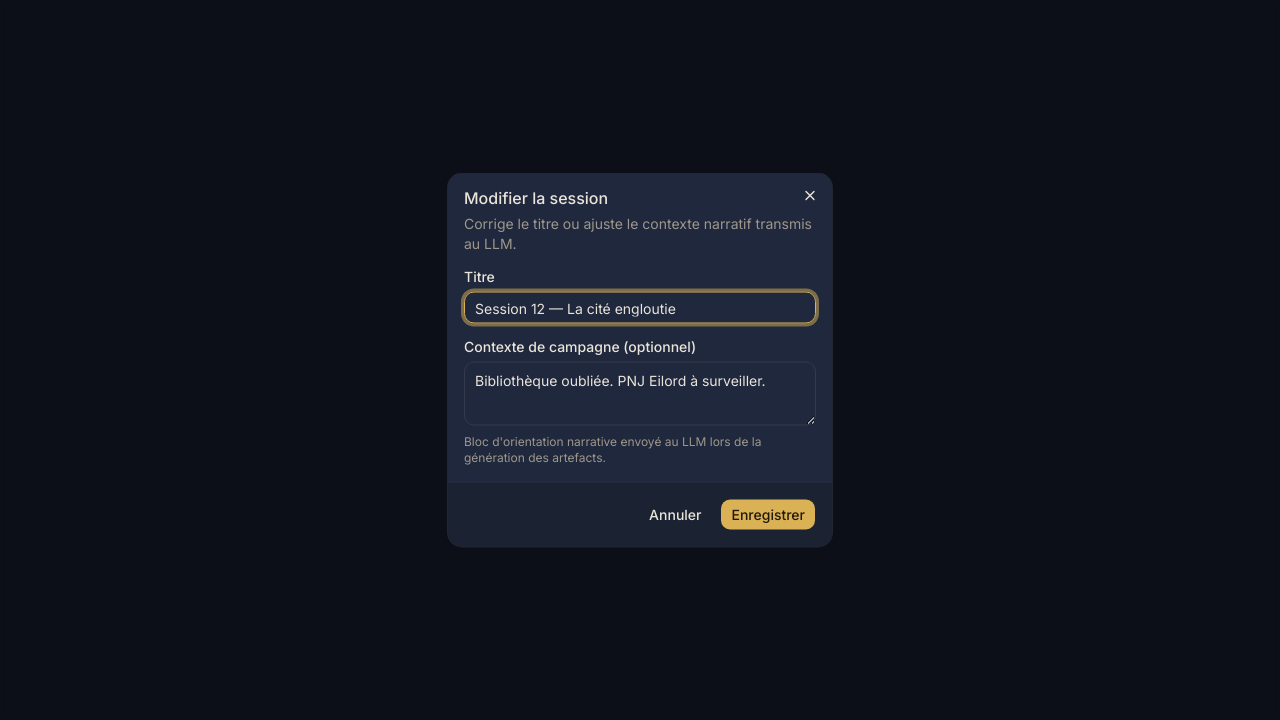
Test case: <SessionEditDialog> › rejects an empty title with the French zod error
Clear the field labelled "Titre". click: (640, 308)
box: [464,292,816,324]
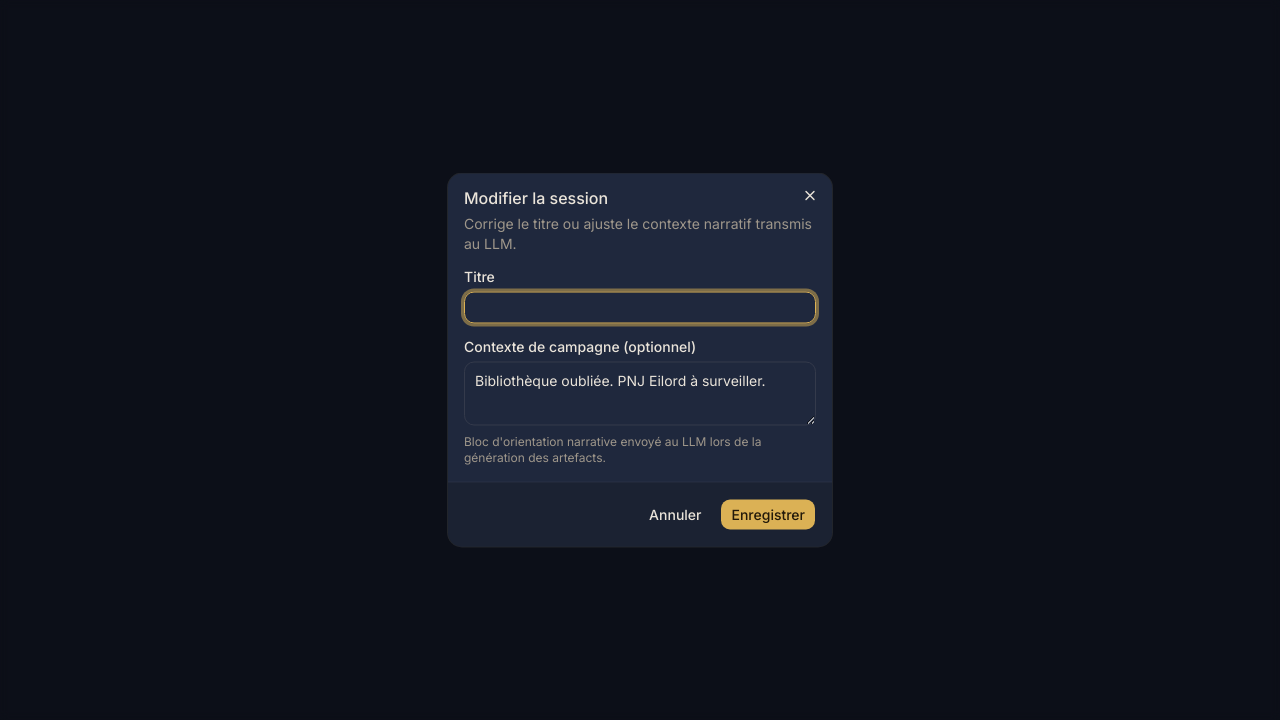
Click the button "Enregistrer". click: (768, 514)
box: [720,498,816,530]
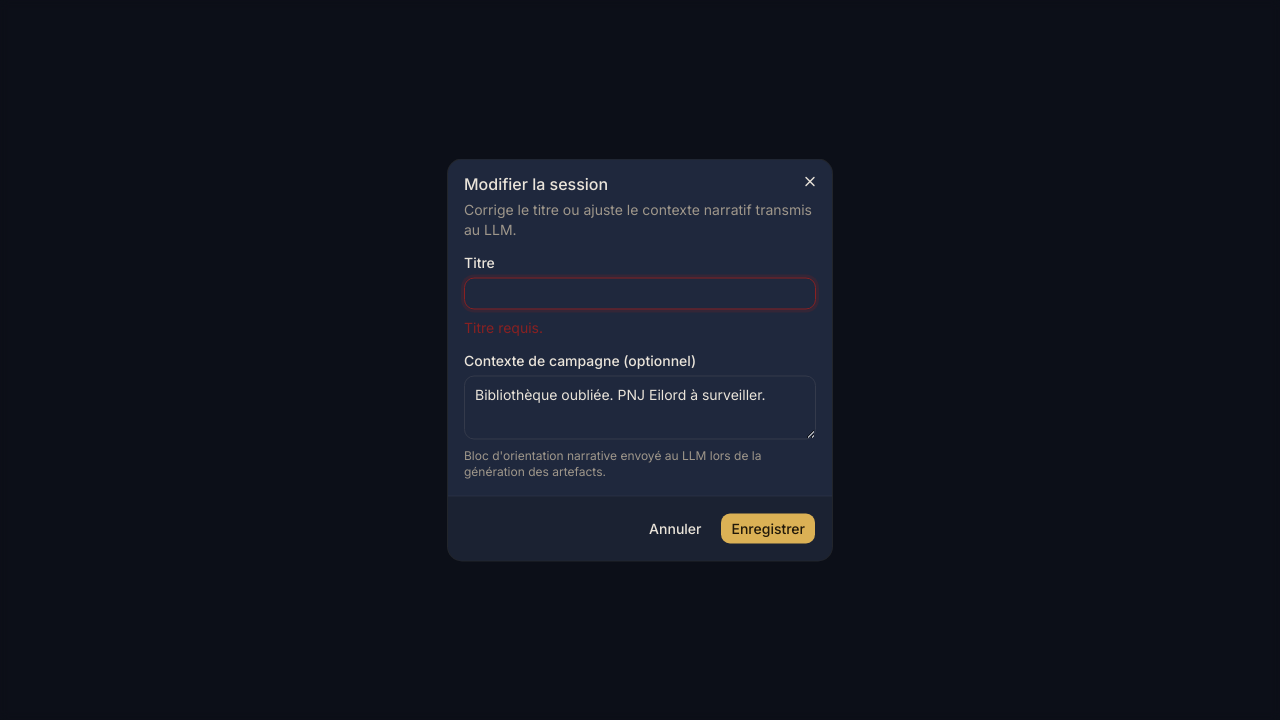
Result: the text "Titre requis." is shown at [464,318,543,336]
